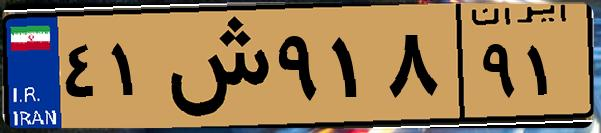1: (330, 28, 385, 110), (525, 38, 570, 115), (110, 28, 158, 98)
4: (57, 26, 110, 100)
8: (385, 28, 445, 110)
9: (270, 28, 330, 110), (475, 38, 525, 113)
ش: (158, 12, 270, 120)
